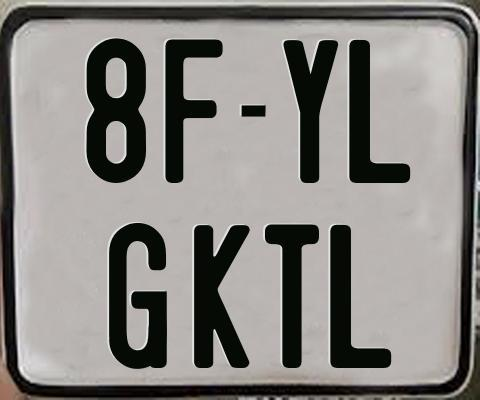8: (83, 38, 145, 183)
F: (163, 36, 224, 186)
G: (109, 223, 169, 374)
K: (192, 222, 253, 367)
L: (347, 37, 413, 185), (330, 223, 397, 366)
T: (265, 224, 322, 369)
Y: (282, 37, 338, 186)
